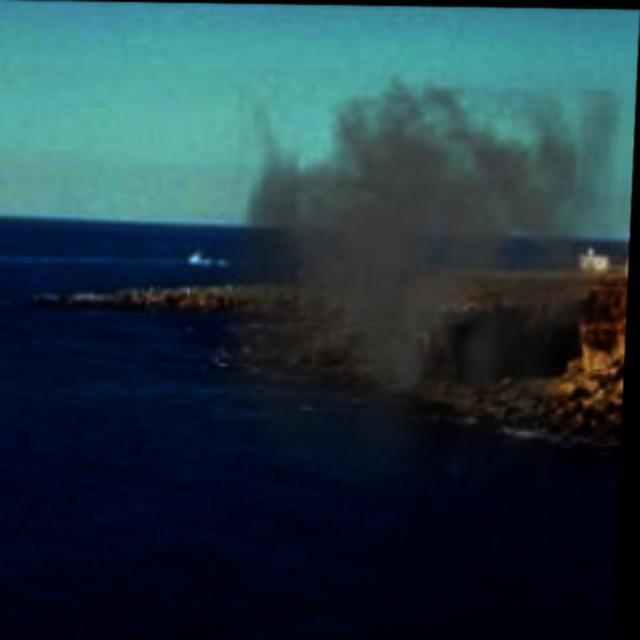Smoke: (224, 72, 626, 506)
